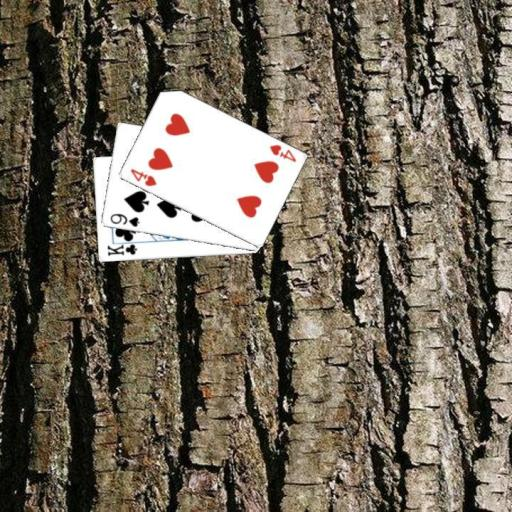4H: (126, 166, 158, 188), (266, 142, 297, 164)
9S: (107, 211, 141, 229)
KC: (104, 239, 141, 258)
